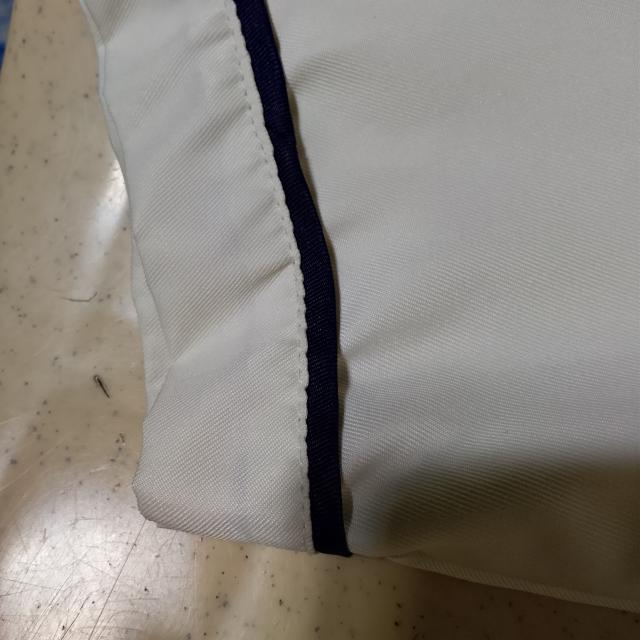education_male_uniform: (69, 3, 640, 598)
